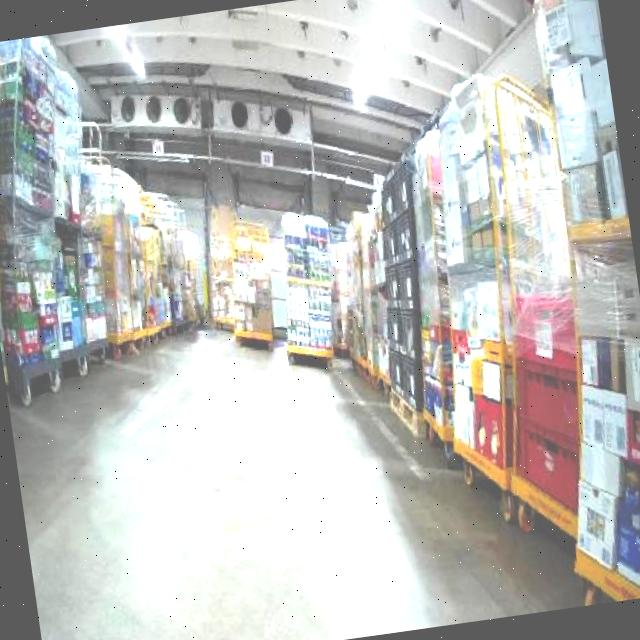ground: (1, 269, 608, 640)
pallet: (288, 0, 640, 634), (491, 0, 640, 606), (0, 19, 212, 419), (451, 66, 613, 547), (266, 206, 346, 373), (216, 214, 284, 355), (0, 221, 27, 416), (105, 315, 195, 360), (233, 324, 274, 355)
